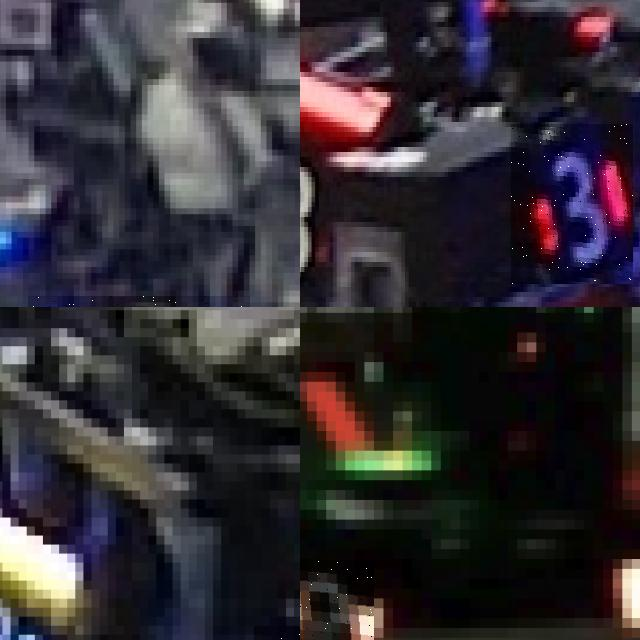R3: (511, 124, 633, 284), (300, 142, 335, 282)
Rs: (300, 558, 373, 640)
